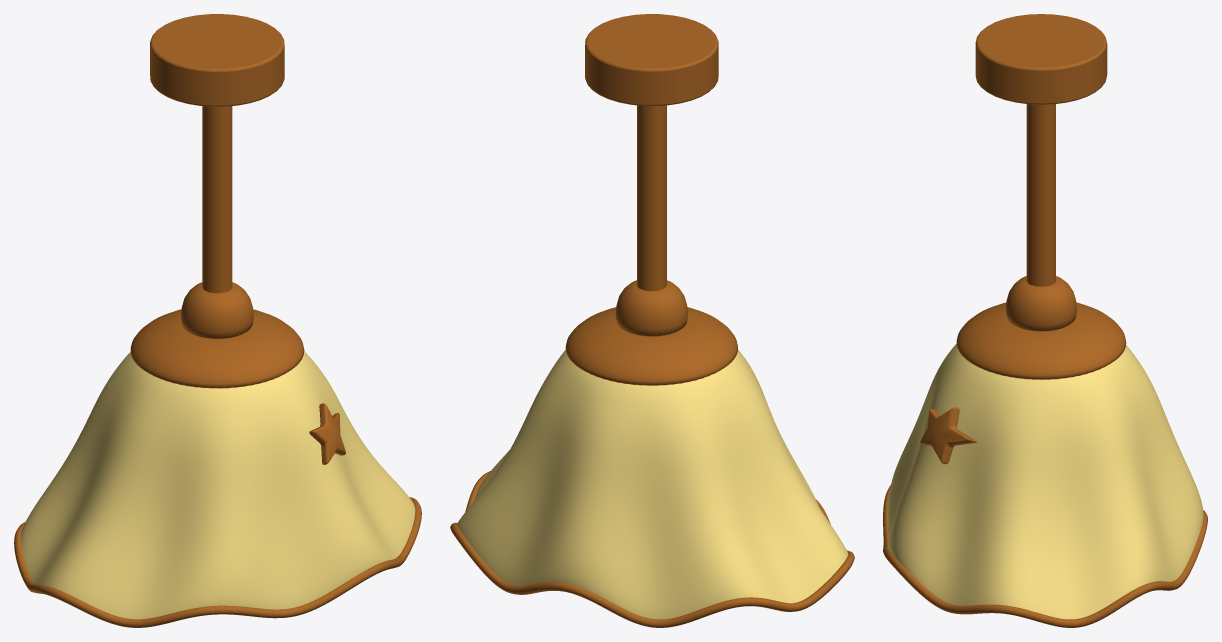
Rendered from ceiling-lamp-agentic-0003.glb.
3 views of the same model, side by side, from view 1: azimuth 30°, elevation 25°; view 2: azimuth 150°, elevation 25°; view 3: azimuth 270°, elevation 25° (orthographic). The views are drawn at different scales.
Parts seen in each view (by area): view 1: Open scalloped opal shade_export, Ceiling canopy_export, Shade crown_export, Suspension stem_export, Continuous scalloped brass binding_export, Rounded stem collar_export, Five point brass star_export; view 2: Open scalloped opal shade_export, Ceiling canopy_export, Shade crown_export, Suspension stem_export, Continuous scalloped brass binding_export, Rounded stem collar_export; view 3: Open scalloped opal shade_export, Ceiling canopy_export, Shade crown_export, Suspension stem_export, Continuous scalloped brass binding_export, Rounded stem collar_export, Five point brass star_export.
Part boxes in pixels (x1,y1,x2,y2): Open scalloped opal shade_export: (21,351,415,619); Ceiling canopy_export: (150,14,284,106); Shade crown_export: (130,309,304,388); Suspension stem_export: (202,106,232,293); Continuous scalloped brass binding_export: (14,497,421,627); Rounded stem collar_export: (181,282,253,339); Five point brass star_export: (309,403,345,464); Open scalloped opal shade_export: (457,349,848,619); Ceiling canopy_export: (585,14,718,106); Shade crown_export: (565,307,737,385); Suspension stem_export: (637,105,666,291); Continuous scalloped brass binding_export: (450,471,854,627); Rounded stem collar_export: (615,280,687,336); Open scalloped opal shade_export: (888,344,1203,619); Ceiling canopy_export: (975,14,1107,104); Shade crown_export: (956,302,1126,379); Suspension stem_export: (1026,104,1055,286); Continuous scalloped brass binding_export: (883,485,1207,627); Rounded stem collar_export: (1005,276,1076,331); Five point brass star_export: (920,407,976,464).
Bounding box in the file's own units: 0.3689 × 0.5341 × 0.2862.
